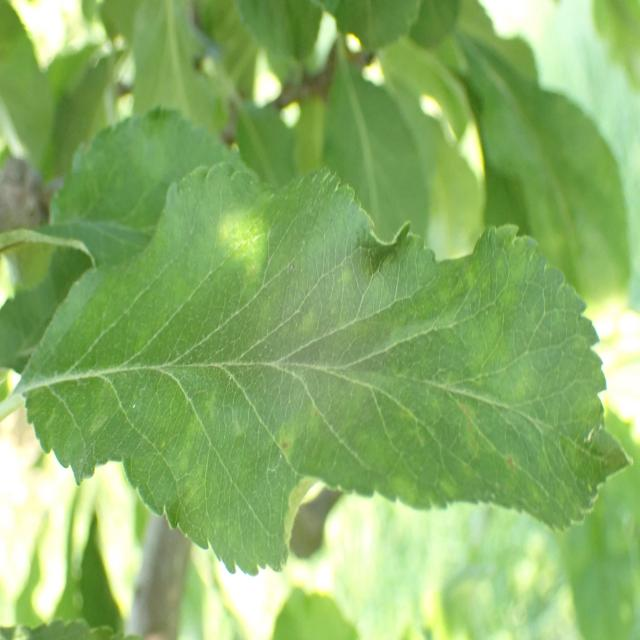scab: (61, 208, 601, 507)
